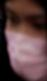with_mask: (2, 1, 47, 81)
